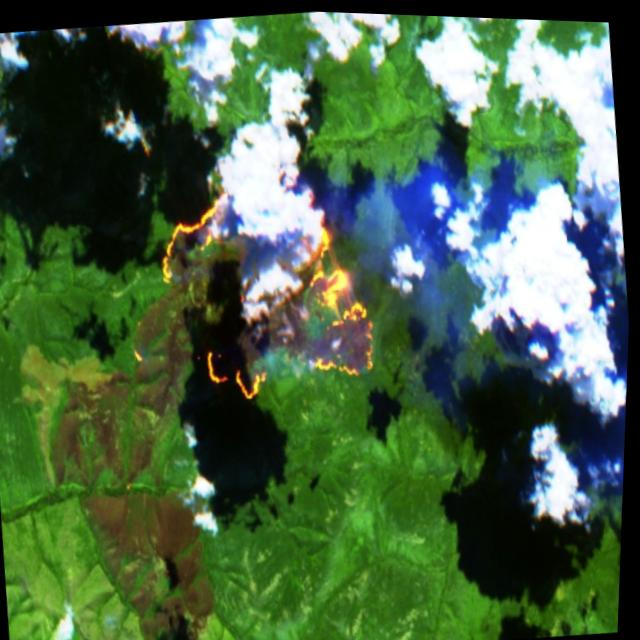fire: (147, 139, 395, 425)
